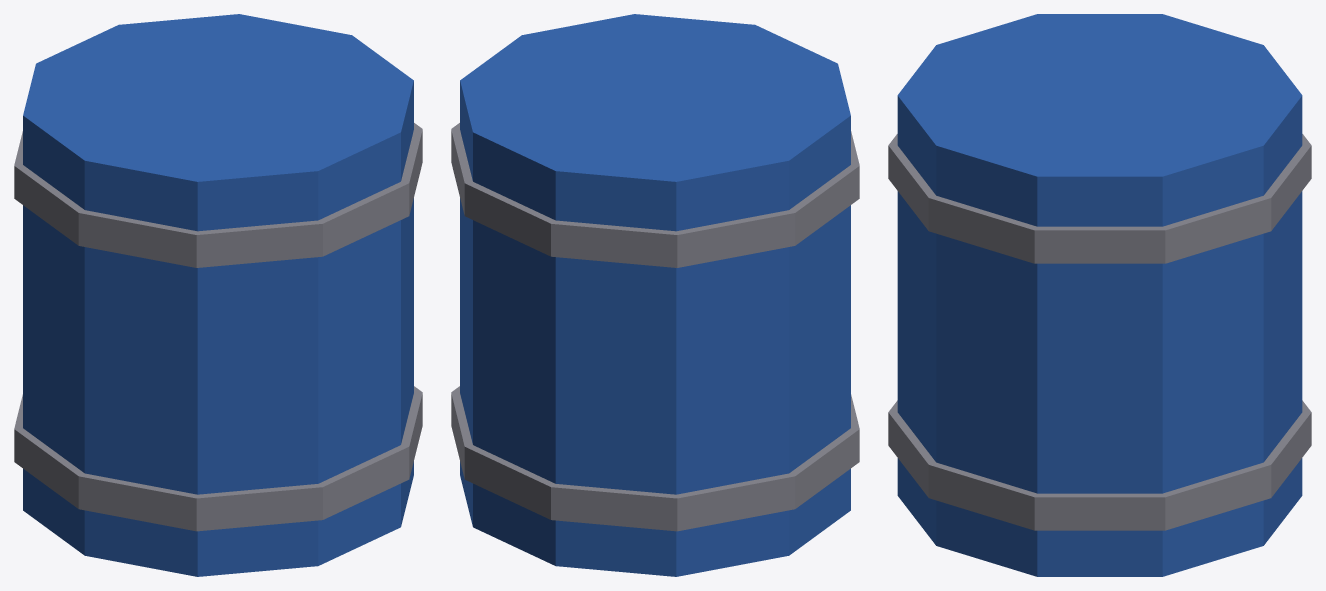
Rendered from barrel.glb.
3 views of the same model, side by side, from view 1: azimuth 30°, elevation 25°; view 2: azimuth 150°, elevation 25°; view 3: azimuth 270°, elevation 25° (orthographic).
Parts seen in each view (by area): view 1: barrel; view 2: barrel; view 3: barrel.
Part boxes in pixels (x1,y1,x2,y2): barrel: (14,14,422,576); barrel: (451,14,859,576); barrel: (888,14,1311,576).
Size of the model in its own units: 0.2187 by 0.24 by 0.23.
